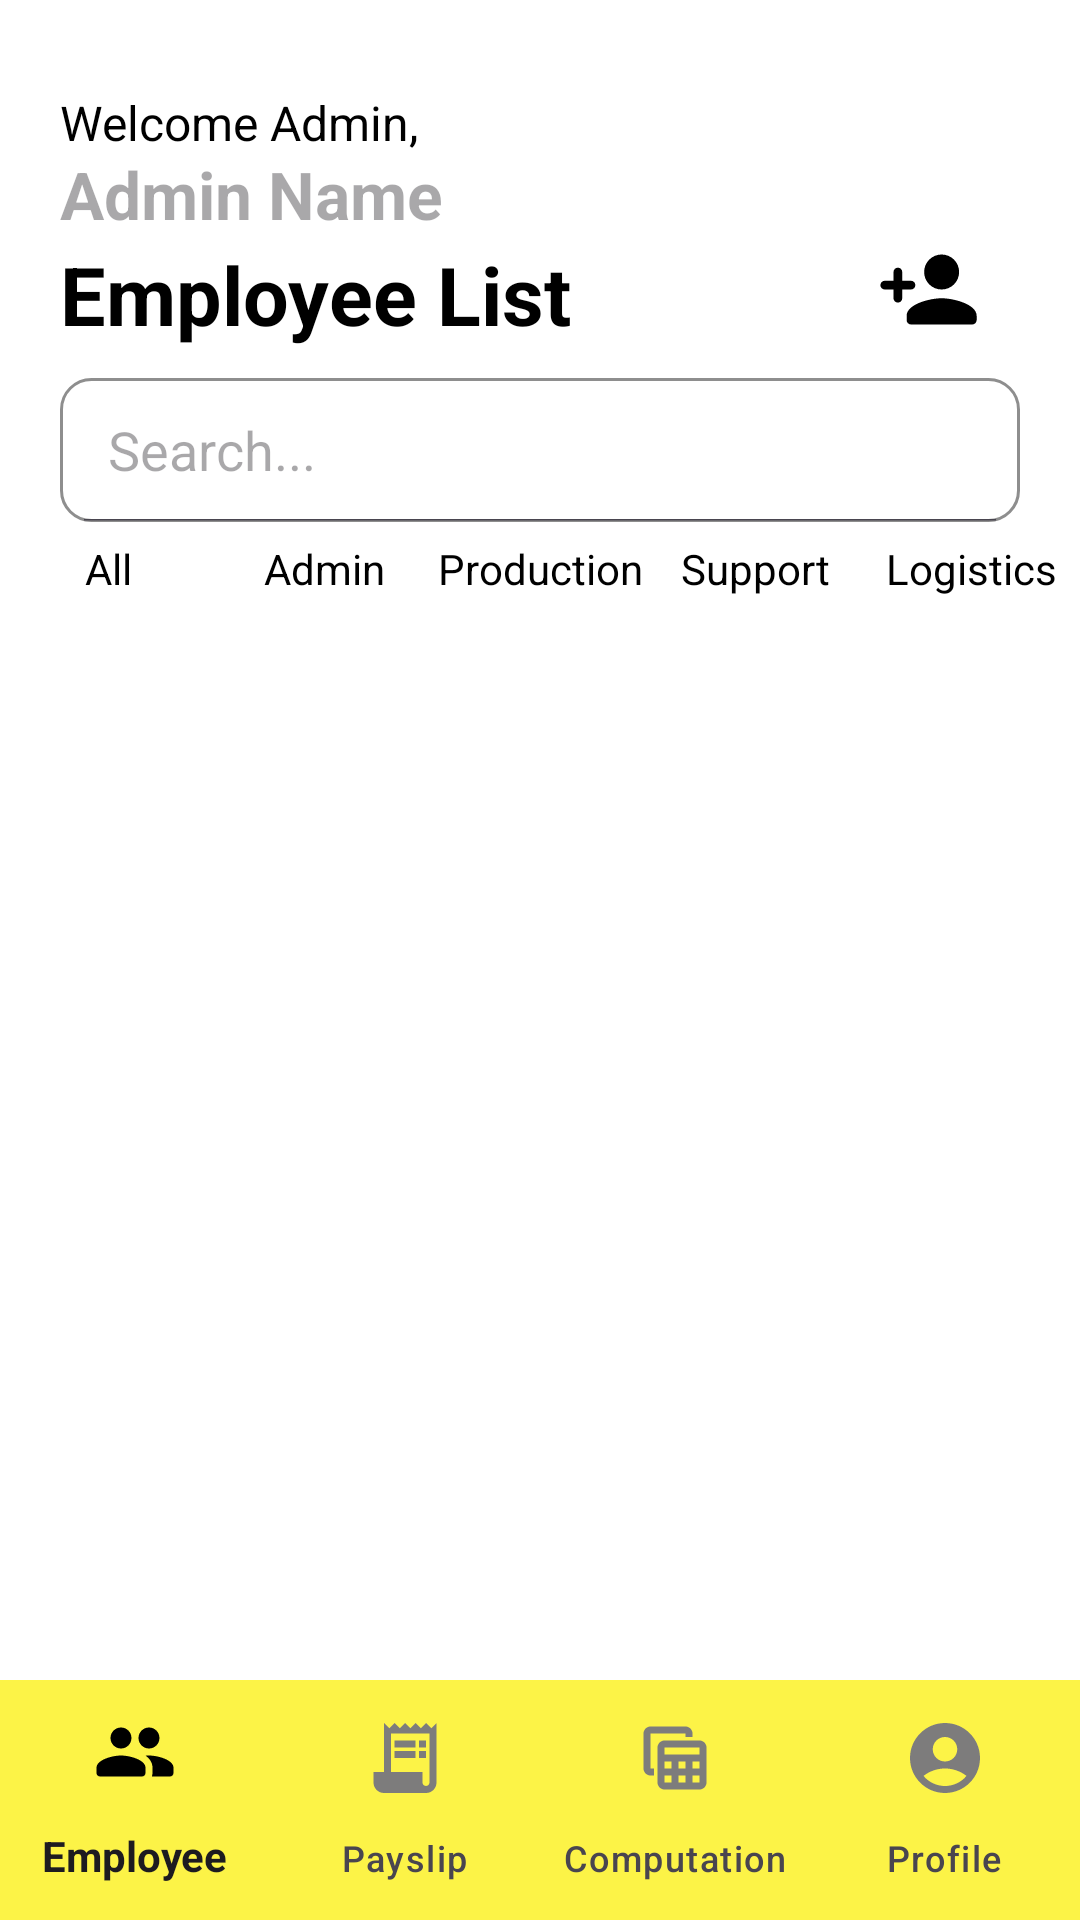

Screen size 1080w x 1920h. Icon name, then its box in pixels as (x1, y1, x2, y2):
person add: (880, 254, 977, 325)
